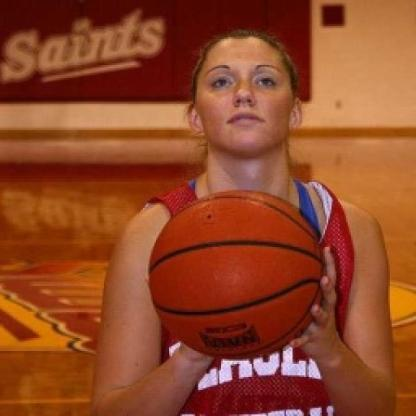basketball: (144, 186, 330, 361)
